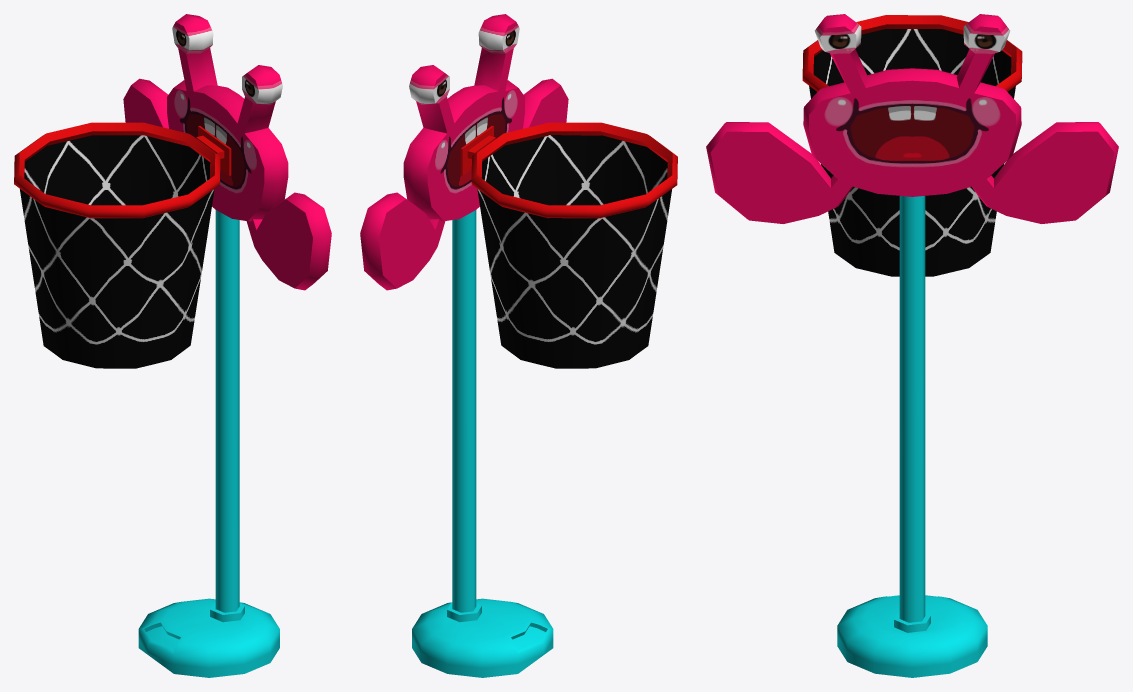
Rendered from hoop2.fbx.
The picture shows the model from 3 angles, left to right: view 1: azimuth 30°, elevation 25°; view 2: azimuth 150°, elevation 25°; view 3: azimuth 270°, elevation 25°; orthographic projection. The views are drawn at different scales.
Visible parts, largest first — view 1: Cylinder; view 2: Cylinder; view 3: Cylinder.
Boxes of the visible parts, box(x1,y1,x2,y2) form: Cylinder: box(14, 14, 331, 677); Cylinder: box(360, 14, 677, 677); Cylinder: box(706, 14, 1118, 677).
Bounding box in the file's own units: 396 × 939 × 549.
